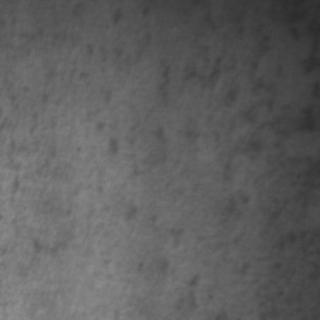pitted_surface: (112, 27, 306, 300), (13, 17, 163, 266)
